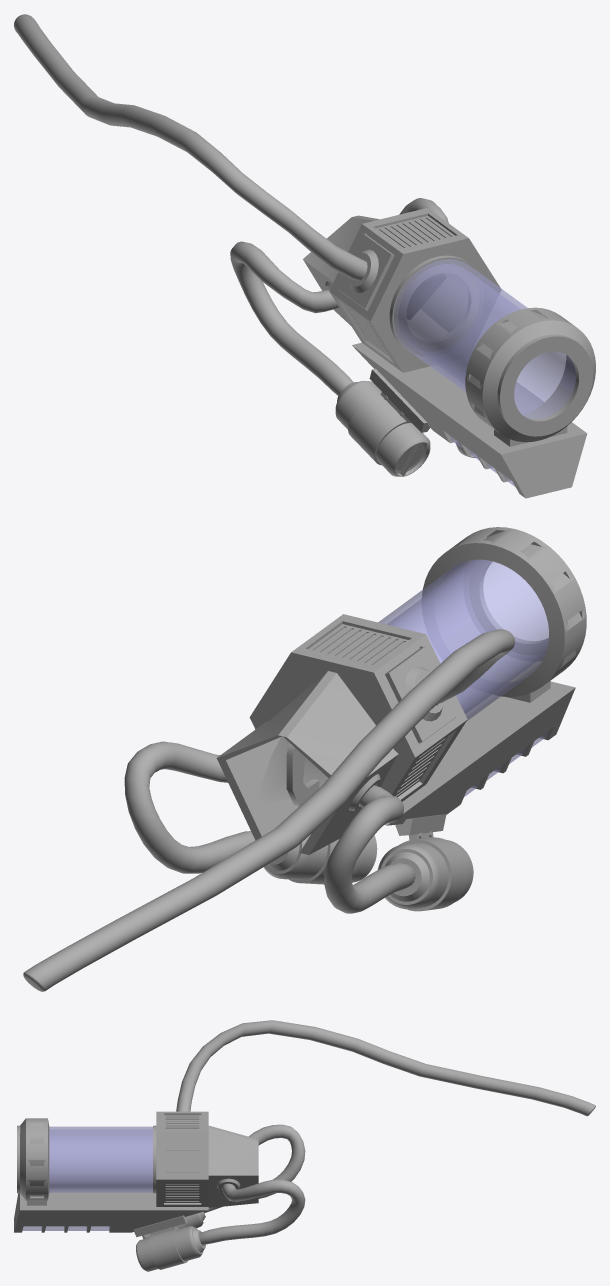
Rendered from gun.fbx.
3 renders of one model, top to bottom at view 1: azimuth 30°, elevation 25°; view 2: azimuth 150°, elevation 25°; view 3: azimuth 270°, elevation 25°, orthographic. The views are drawn at different scales.
Parts seen in each view (by area): view 1: polySurface54; view 2: polySurface54; view 3: polySurface54.
Part boxes in pixels (x1,y1,x2,y2): polySurface54: (14,14,595,498); polySurface54: (23,527,586,991); polySurface54: (14,1020,595,1271).
Bounding box in the file's own units: 89.53 × 98.14 × 272.
